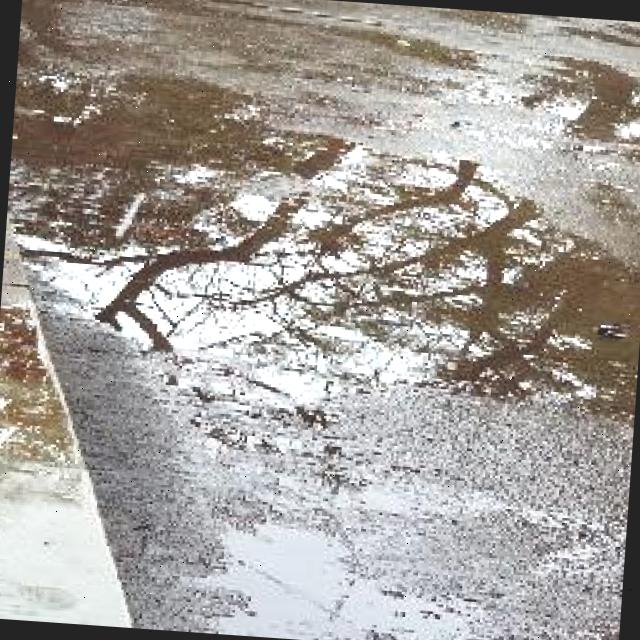stagnation: (26, 39, 640, 436)
